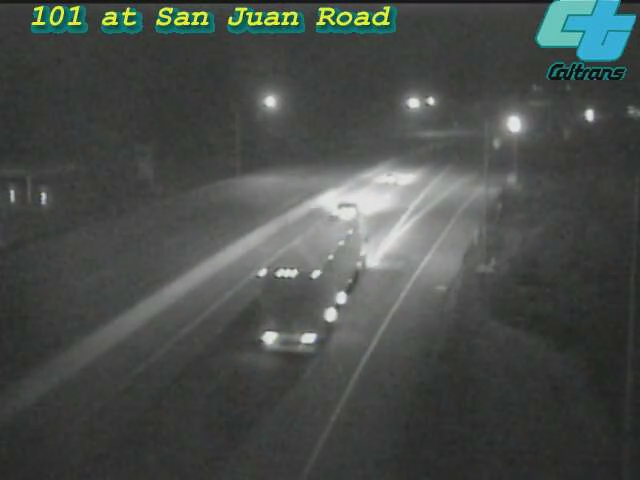vehicle: (349, 139, 429, 219), (310, 168, 390, 248), (275, 232, 355, 312), (491, 99, 541, 149), (567, 89, 617, 139)
